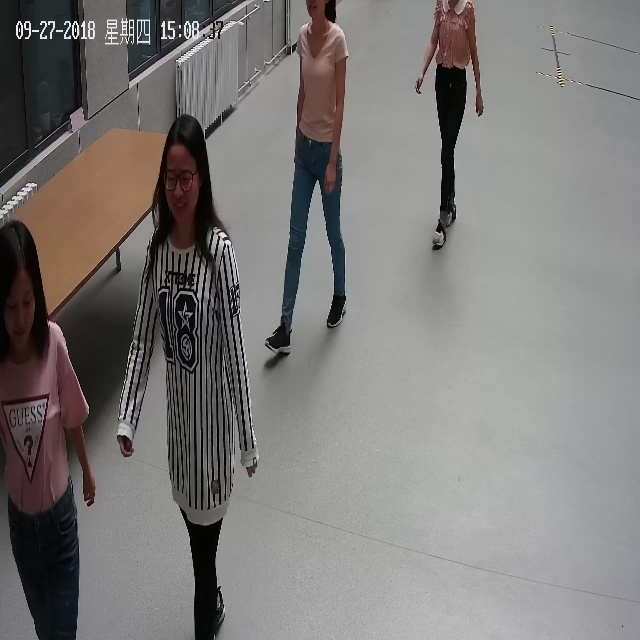head: (151, 109, 216, 231), (0, 217, 55, 348), (302, 0, 339, 24)
